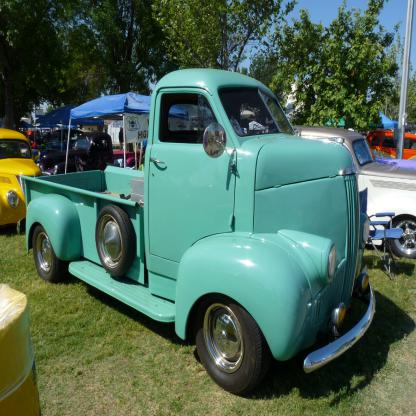Car: (291, 126, 415, 258), (0, 128, 142, 229), (366, 132, 415, 160)
Truck: (21, 67, 376, 397)
